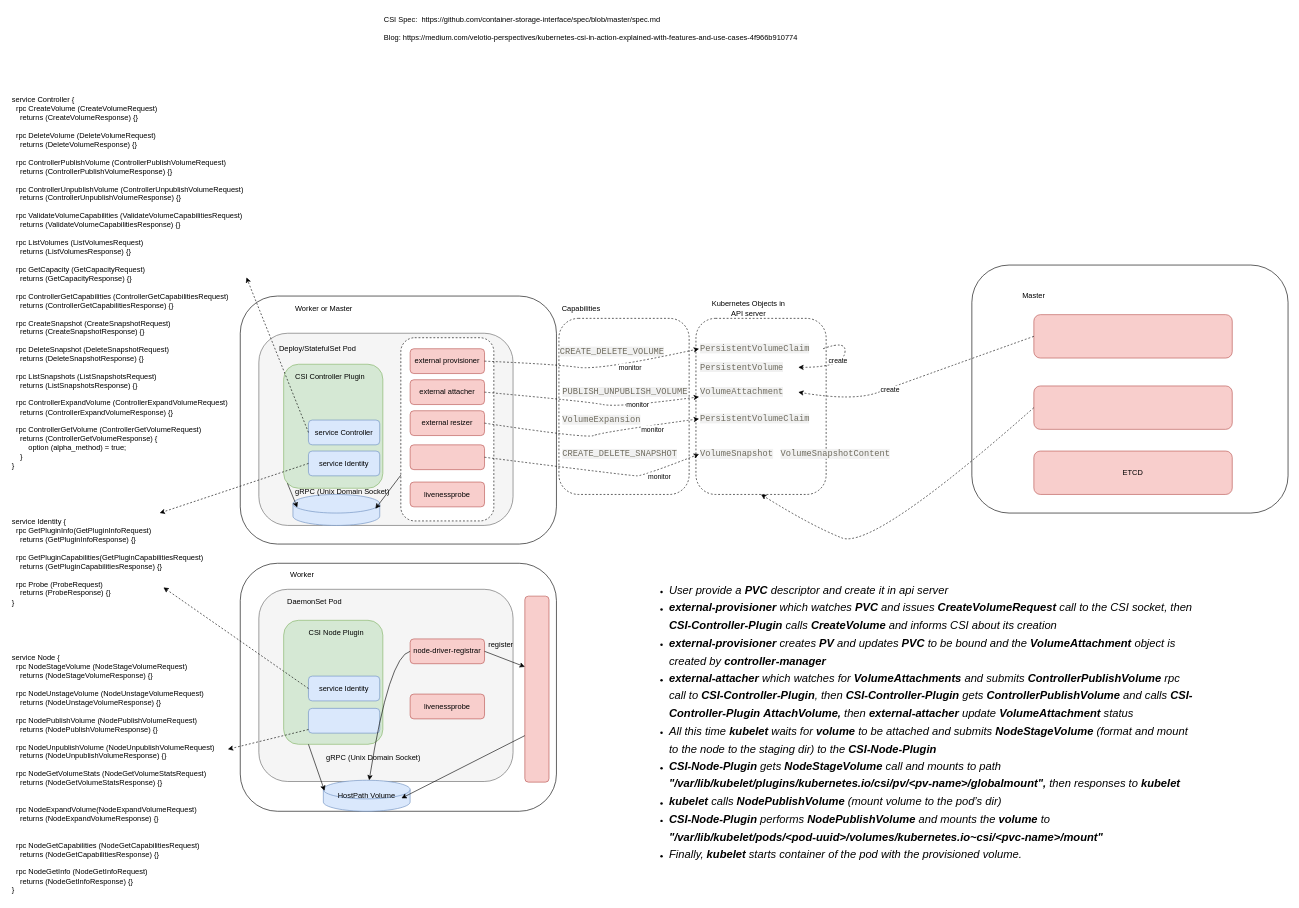
Image size: 1299x908. Some labels were removed from this diagram. Here are the shapes that lost their labels. From the top down, the centre of each, then its label:
At [1132,336]: "Controller Manager".
At [1132,407]: "API Server".
At [447,457]: "external snapshotter".
At [336,509]: "EmptyDir Volume".
At [536,689]: "kubelet".
At [344,720]: "service Node".
